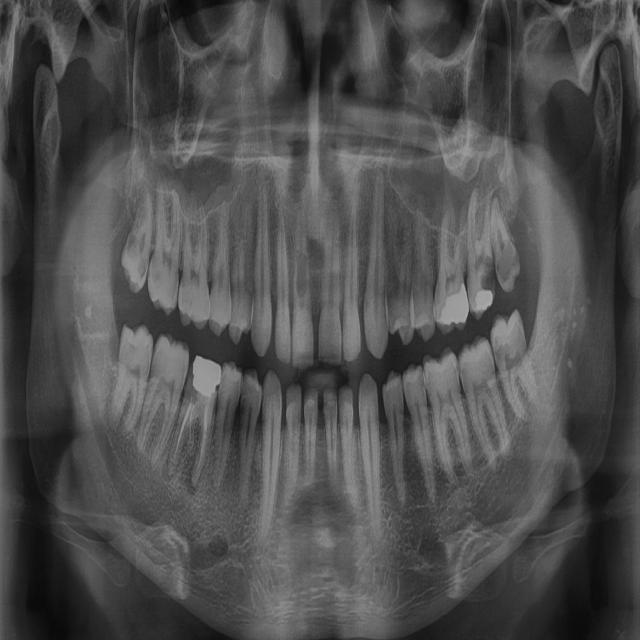Caries: (497, 241, 519, 289), (293, 251, 312, 299), (480, 255, 496, 298), (494, 335, 510, 367), (184, 367, 197, 403), (125, 227, 138, 259), (135, 250, 146, 277)
Filling: (440, 282, 468, 324), (192, 355, 221, 395), (475, 287, 493, 310)
Periapical lesion: (306, 238, 326, 268), (185, 455, 198, 495), (160, 458, 176, 481), (489, 193, 505, 216)
Root Canal Treatment: (173, 396, 194, 460), (196, 394, 209, 473)
